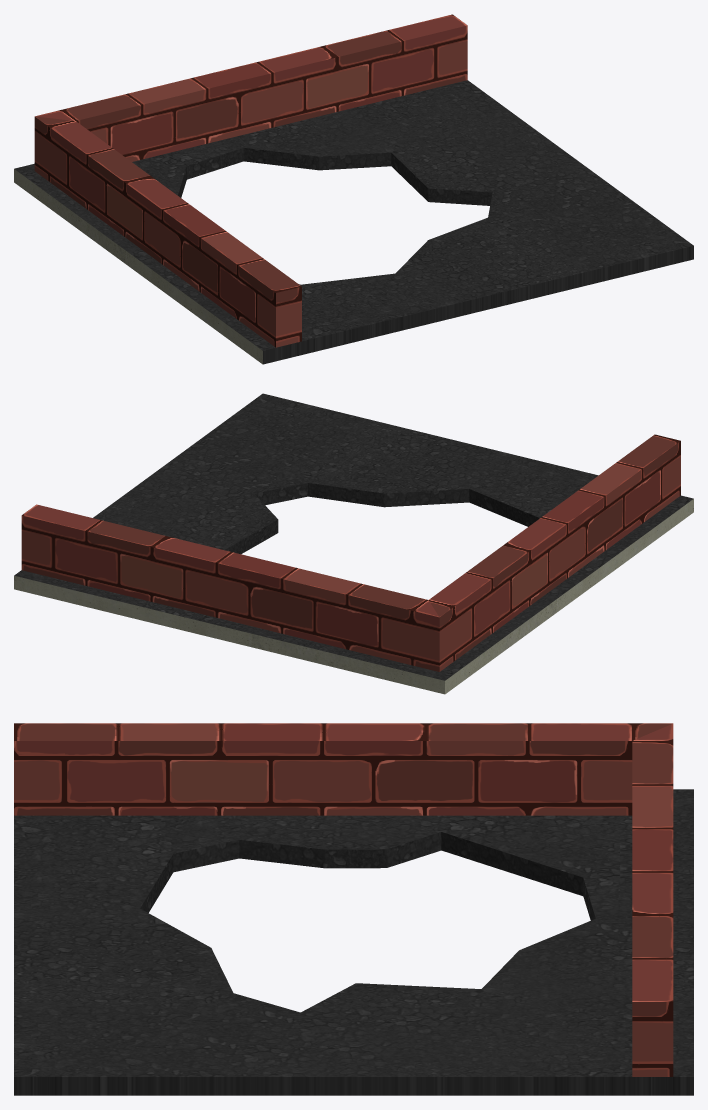
The model's file is roof02_corner_destroyed.fbx.
The picture shows the model from 3 angles, top to bottom: view 1: azimuth 30°, elevation 25°; view 2: azimuth 150°, elevation 25°; view 3: azimuth 270°, elevation 25°; orthographic projection. The views are drawn at different scales.
Visible parts, largest first — view 1: roof02_corner_destroyed; view 2: roof02_corner_destroyed; view 3: roof02_corner_destroyed.
Boxes of the visible parts, x1,y1,x2,y2 form: roof02_corner_destroyed: (14, 14, 693, 364); roof02_corner_destroyed: (14, 393, 693, 694); roof02_corner_destroyed: (14, 723, 693, 1095).
Size of the model in its own units: 330 by 50 by 330.
